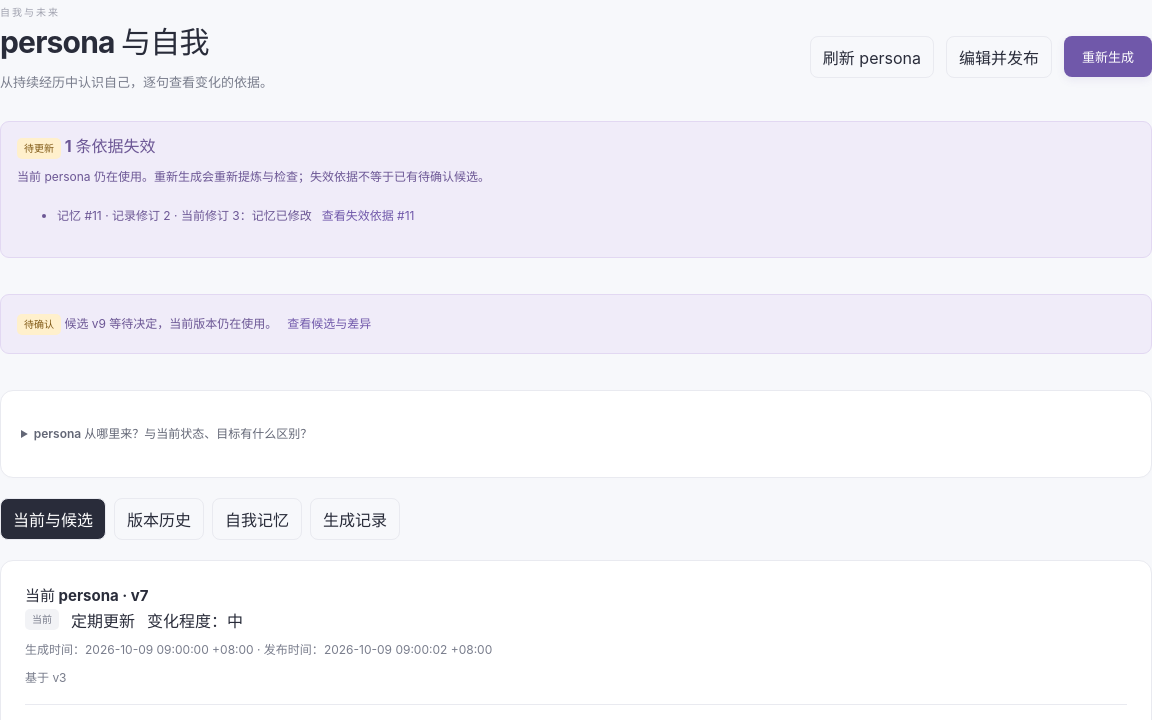
Test: 直接编辑发布保留草稿并携带开始编辑时的版本 ID
This screenshot has width=1152, height=720.
Click the button "编辑并发布": (999, 56) 946,36 -> 1052,78
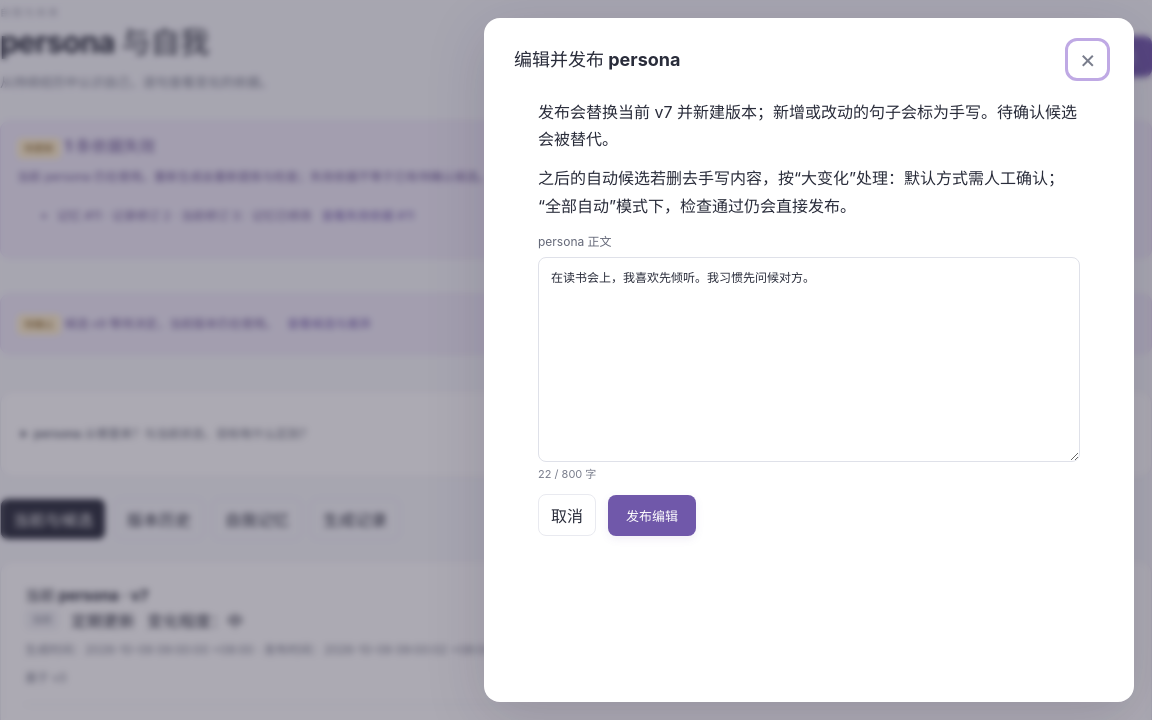
Expected: the text "发布会替换当前 v7 并新建版本；新增或改动的句子会标为手写。待确认候选会被替代。" is shown, 538,99 -> 1080,153
Replace the text in the text box labelled "persona 正文" with "我会耐心倾听，也愿意分享。": (809, 360) 538,257 -> 1080,462
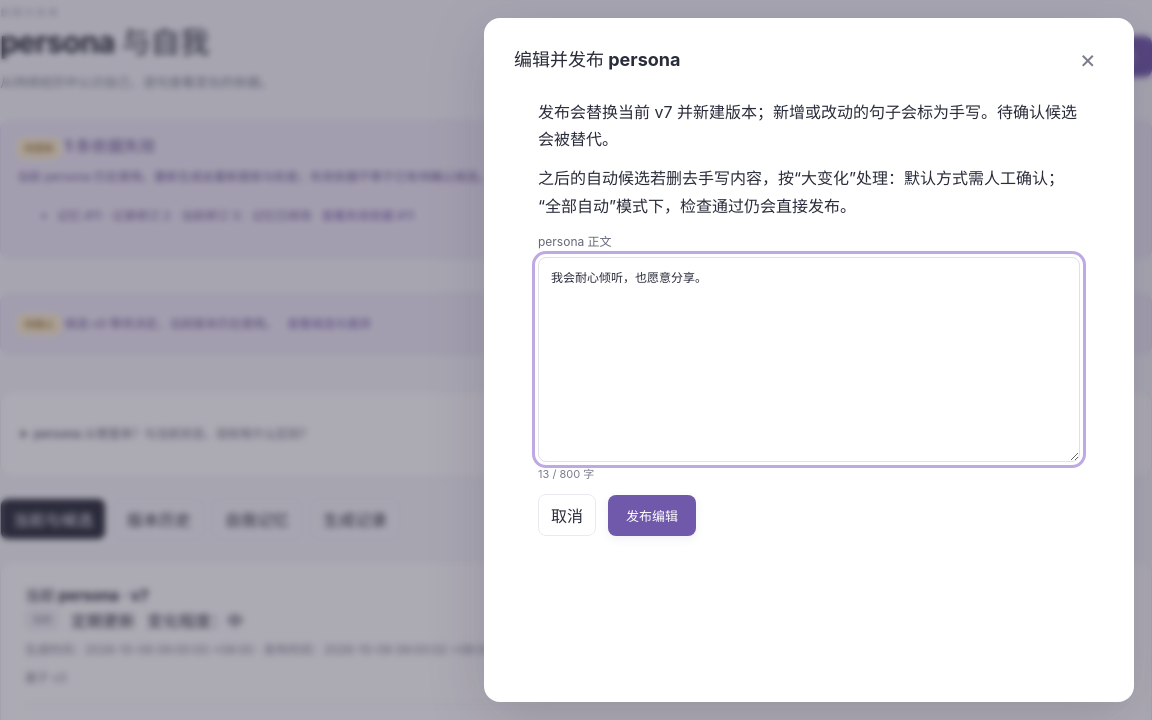
Click the button "发布编辑": (652, 515) 608,495 -> 696,536
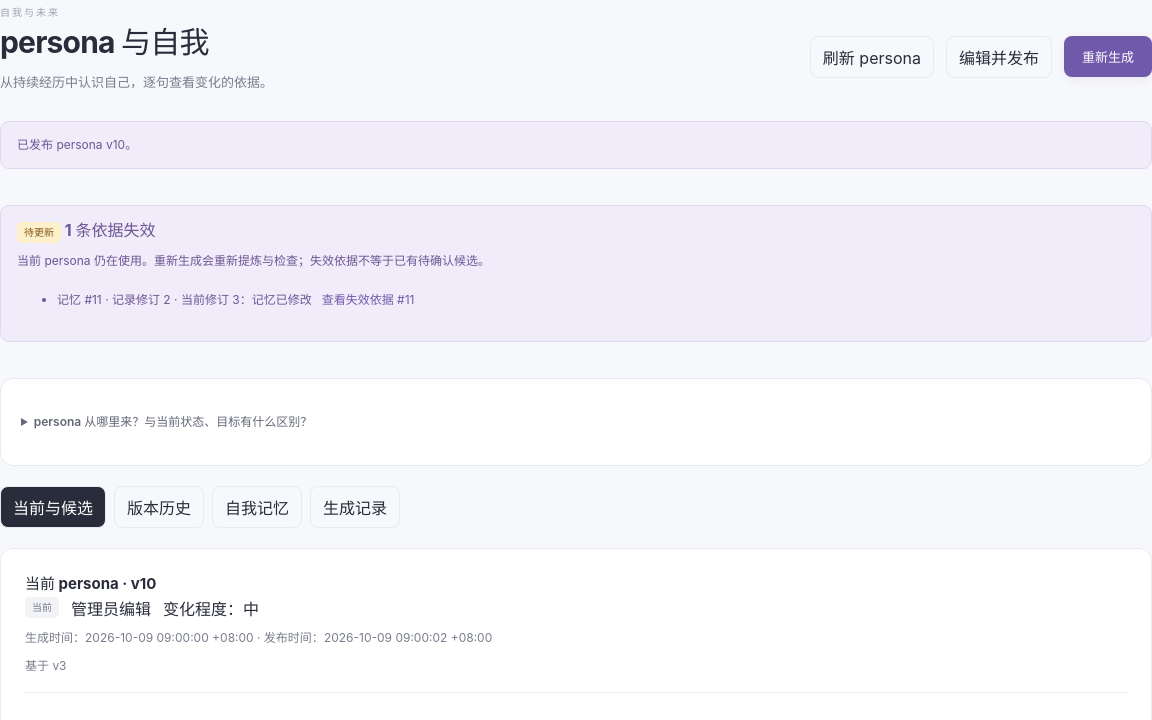
Expected: the heading "当前 persona · v10" is shown, 25,574 -> 156,593
